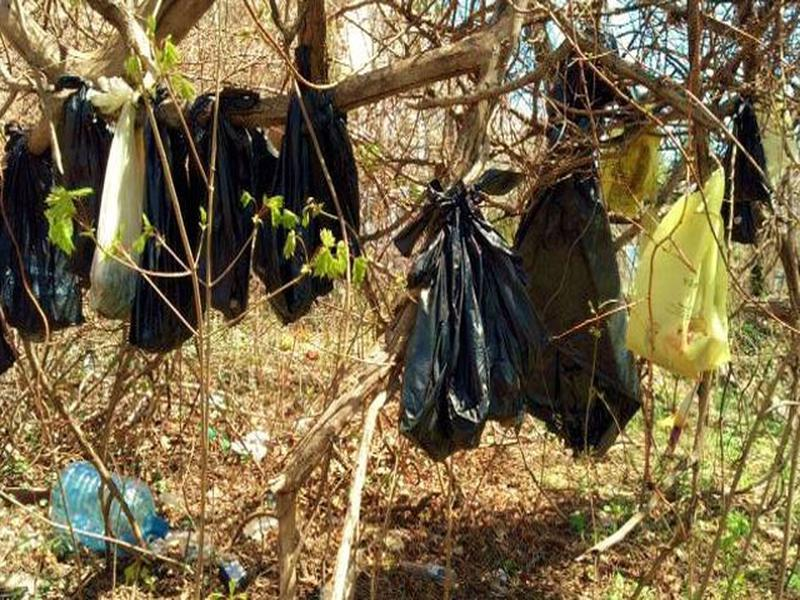bottle: (47, 460, 177, 557)
plastic: (498, 30, 649, 460), (392, 168, 553, 462), (270, 23, 373, 330), (621, 158, 740, 376), (174, 82, 277, 324), (85, 68, 157, 324), (1, 111, 70, 344)
